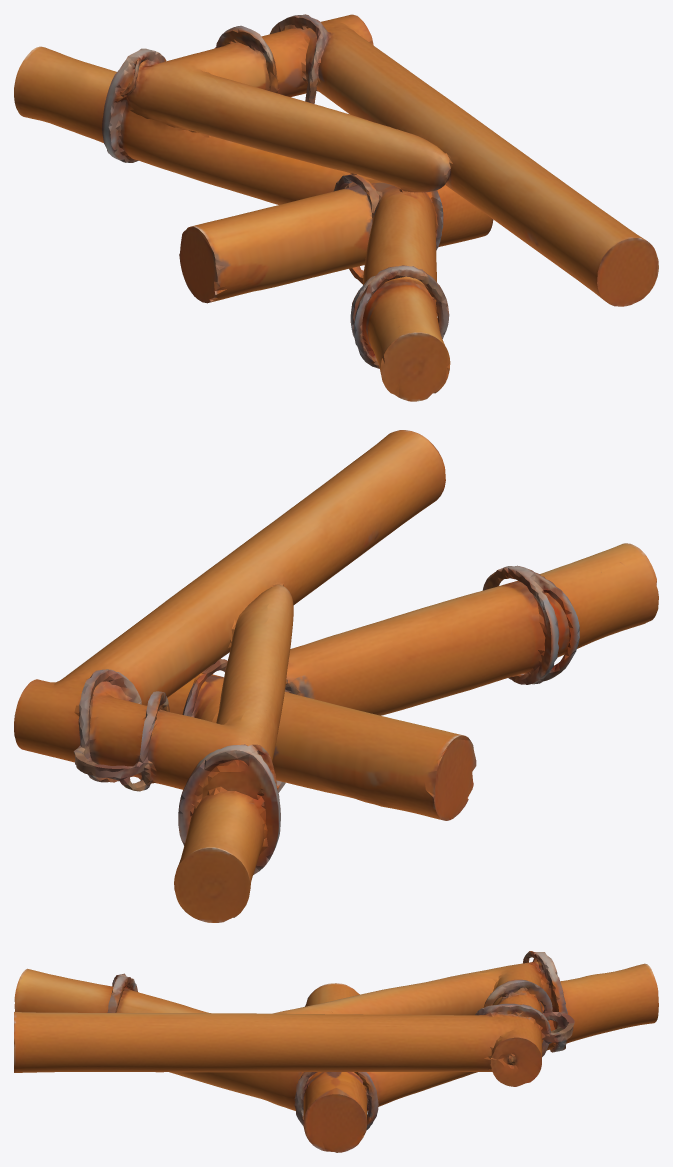
File: nunchaku.glb
3 renders of one model, top to bottom at view 1: azimuth 30°, elevation 25°; view 2: azimuth 150°, elevation 25°; view 3: azimuth 270°, elevation 25°, orthographic. The views are drawn at different scales.
Visible parts, largest first — view 1: nunchaku; view 2: nunchaku; view 3: nunchaku.
Boxes of the visible parts, x1=… form: nunchaku: x1=14, y1=14, x2=658, y2=401; nunchaku: x1=14, y1=430, x2=658, y2=922; nunchaku: x1=14, y1=951, x2=658, y2=1152.
Bounding box in the file's own units: 0.7739 × 0.4692 × 1.9.
1 material, 1 textured.
